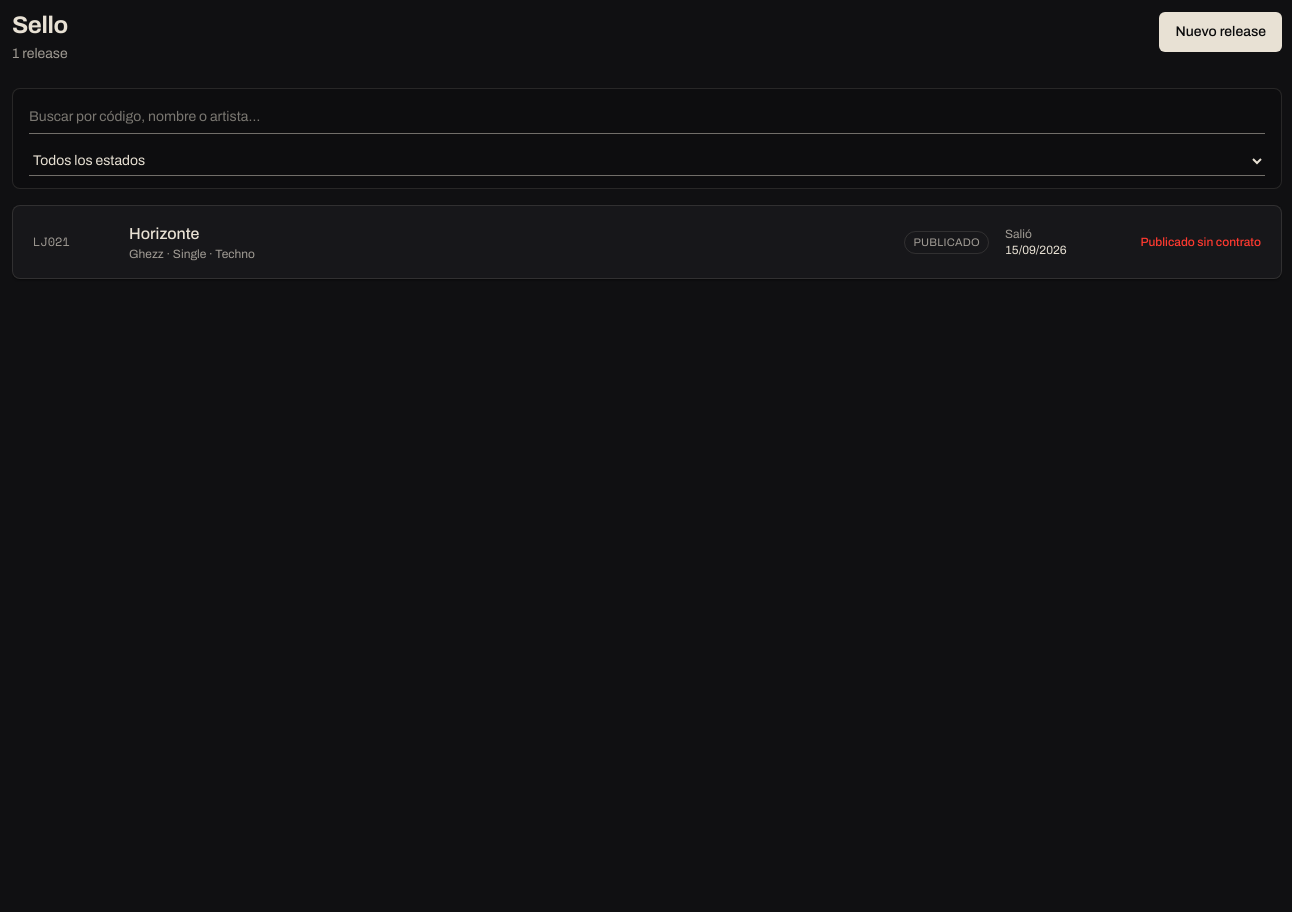
Test: la regla del módulo › muestra la firma de un release publicado sin contrato
Expected: the text "Publicado sin contrato" is shown, [1140,235,1261,249]
Click the text "Horizonte": click(164, 234) [129,225,199,242]
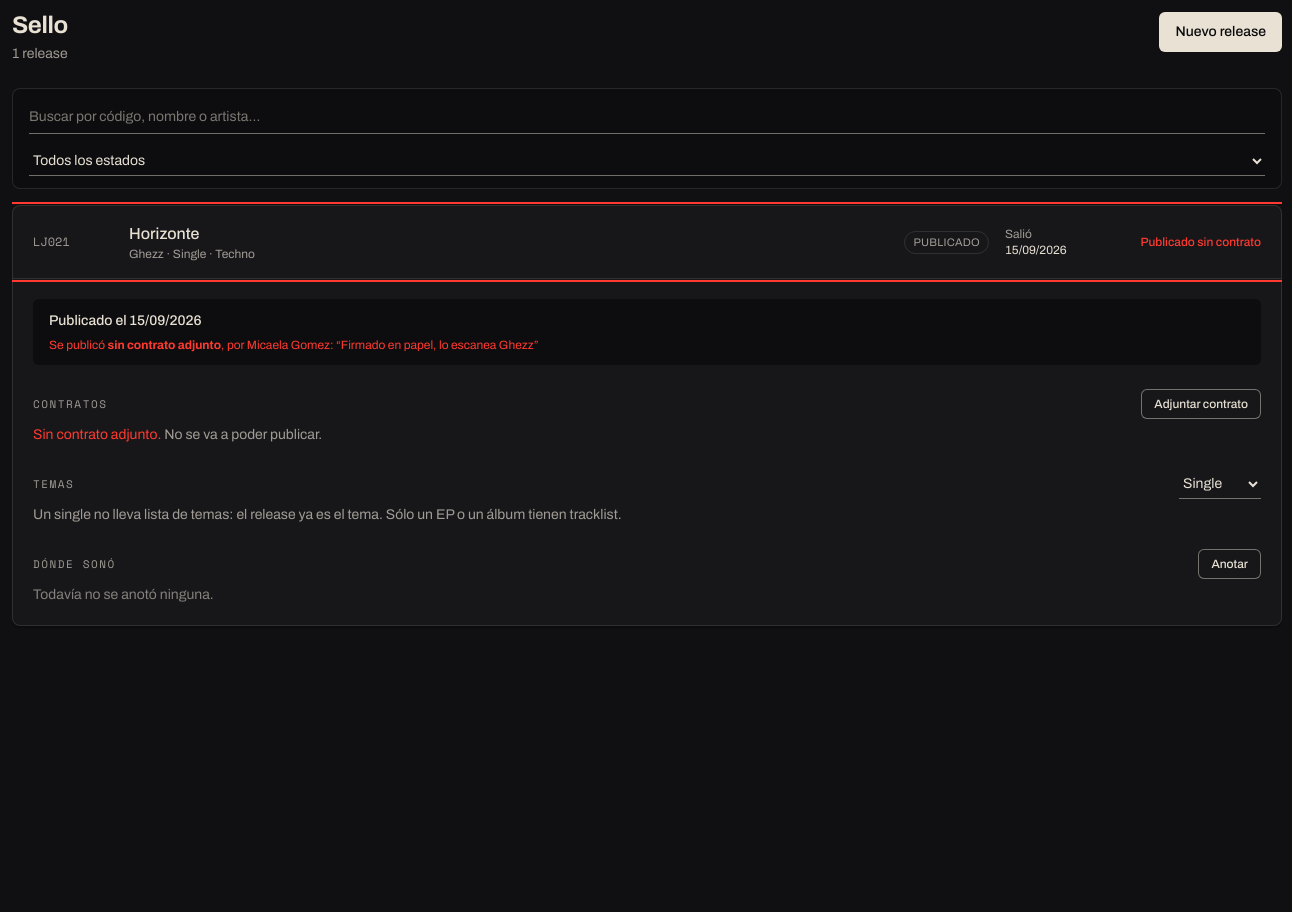
Now the text "Micaela Gomez" is shown, box [221,338,330,352]
Now the text "Firmado en papel" is shown, box [341,338,534,352]
